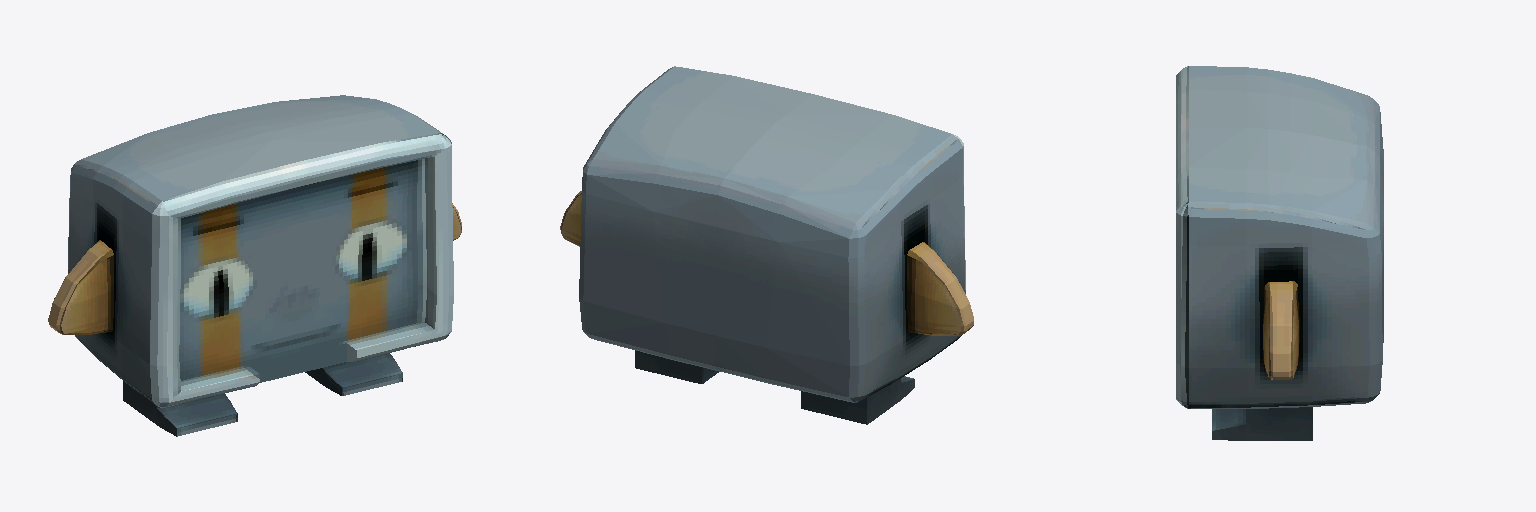
3 renders of one model, left to right at view 1: azimuth 30°, elevation 25°; view 2: azimuth 150°, elevation 25°; view 3: azimuth 270°, elevation 25°, orthographic.
Visible parts, largest first — view 1: 0; view 2: 0; view 3: 0.
Boxes of the visible parts, <box> form: 0: <box>48,95,461,436</box>; 0: <box>560,66,973,424</box>; 0: <box>1176,66,1383,440</box>.
Bounding box in the file's own units: 2.29 × 1.38 × 1.02.
Materials: 1 (1 with a texture image).